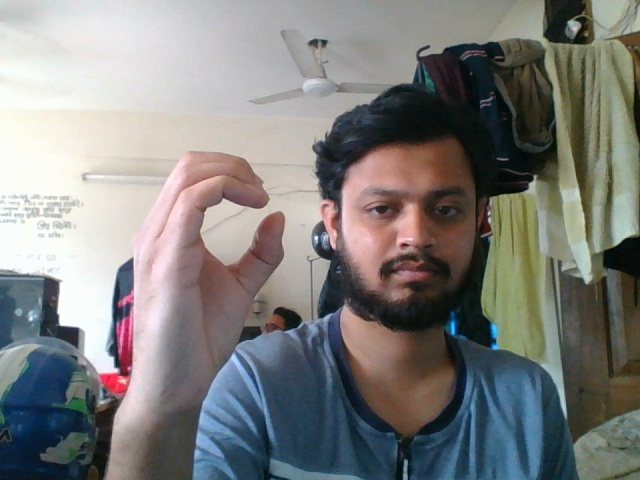ka: (117, 148, 303, 384)
